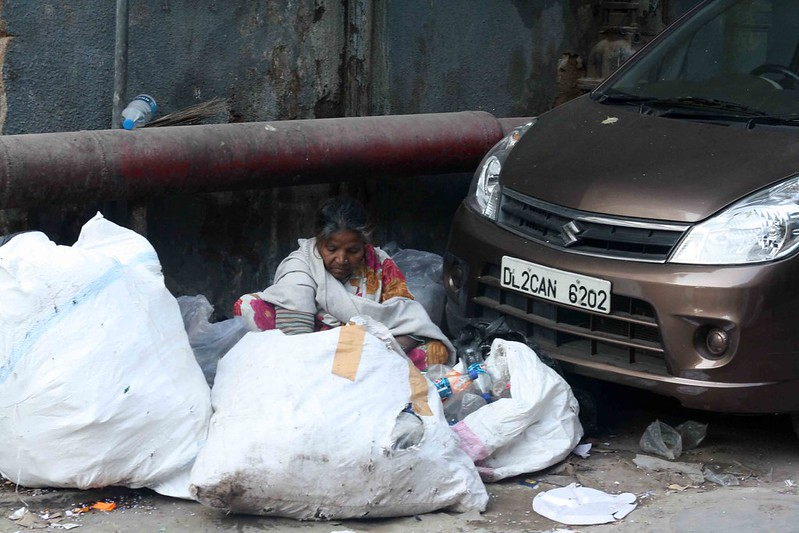number_plate: (497, 252, 616, 317)
